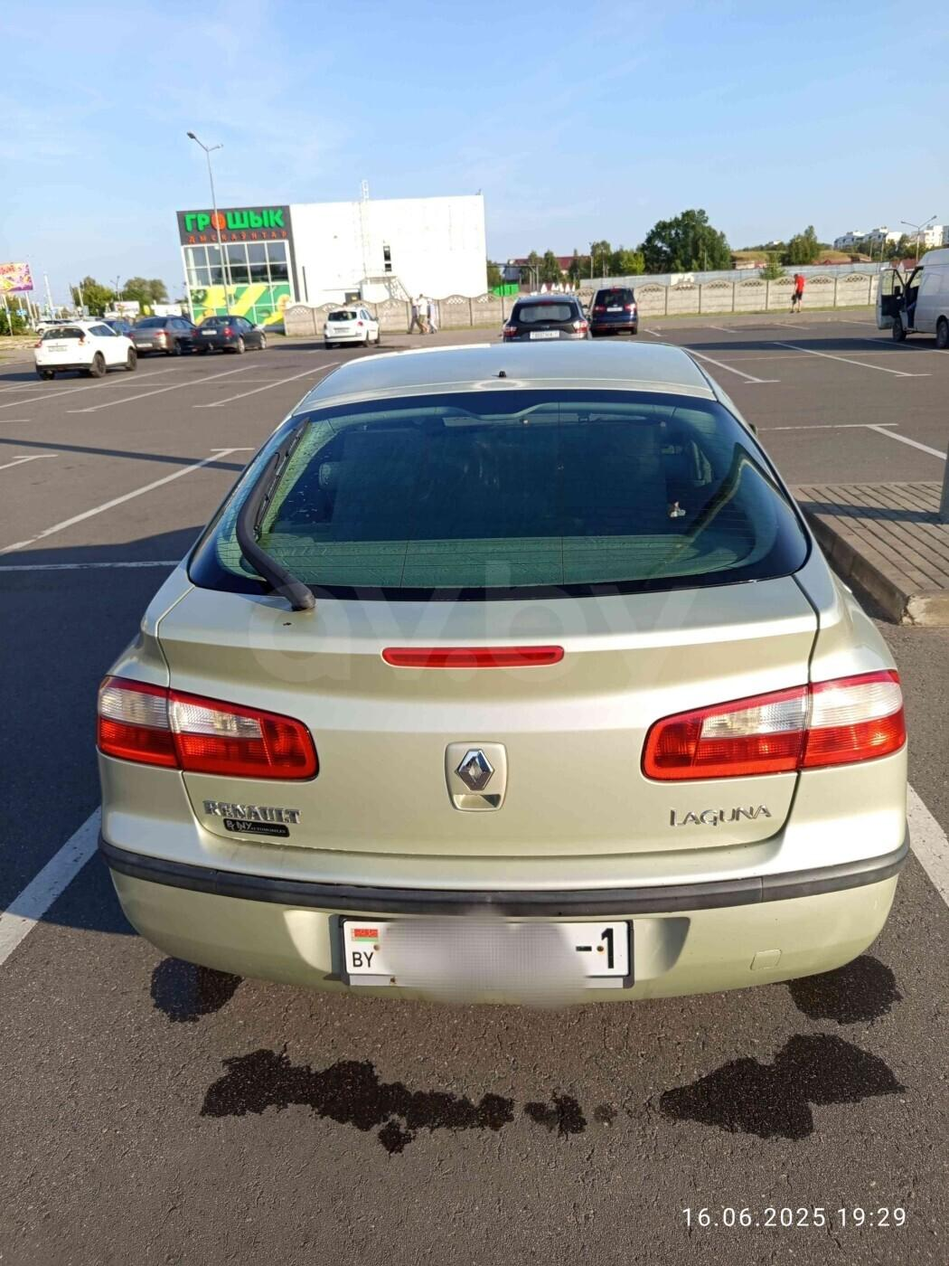Laguna_2001-2005: (96, 342, 907, 1001)
